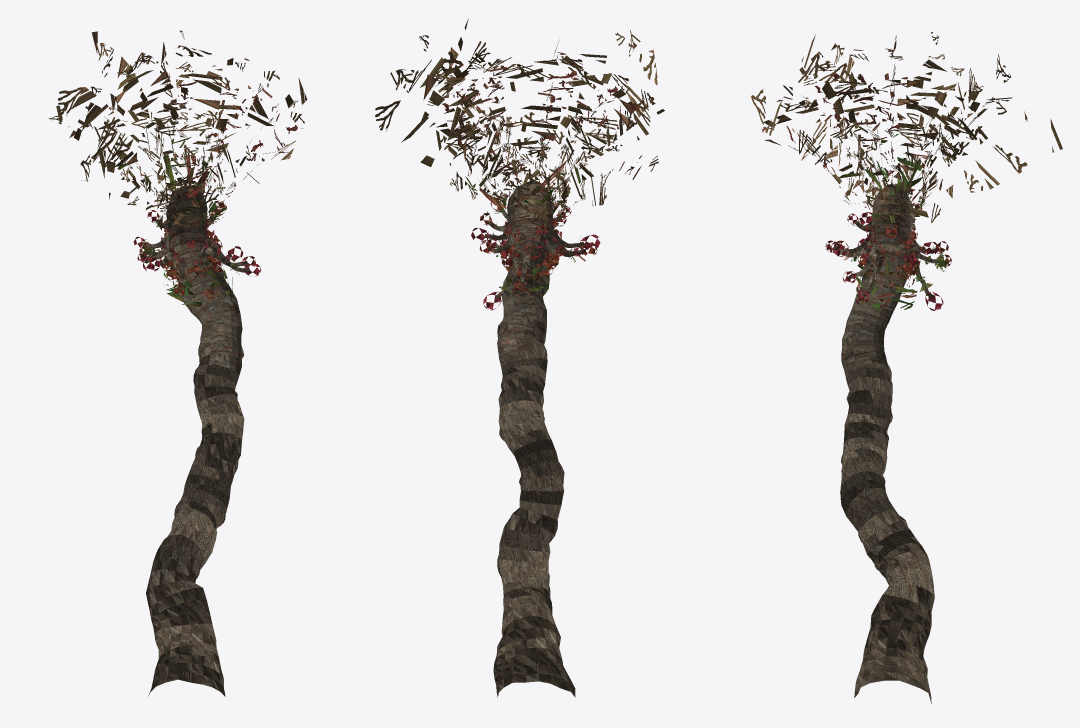
Rendered from Tree - Alien Tree 06 2-C5C9inxM.glb.
The picture shows the model from 3 angles, left to right: view 1: azimuth 30°, elevation 25°; view 2: azimuth 150°, elevation 25°; view 3: azimuth 270°, elevation 25°; orthographic projection.
Parts seen in each view (by area): view 1: Tree6_2(Clone); view 2: Tree6_2(Clone); view 3: Tree6_2(Clone).
Part boxes in pixels (x1,y1,x2,y2): Tree6_2(Clone): [49, 30, 307, 696]; Tree6_2(Clone): [375, 18, 664, 697]; Tree6_2(Clone): [750, 32, 1062, 703].
Bounding box in the file's own units: 6.35 × 13.95 × 6.58.
Materials: 3 (3 with a texture image).
